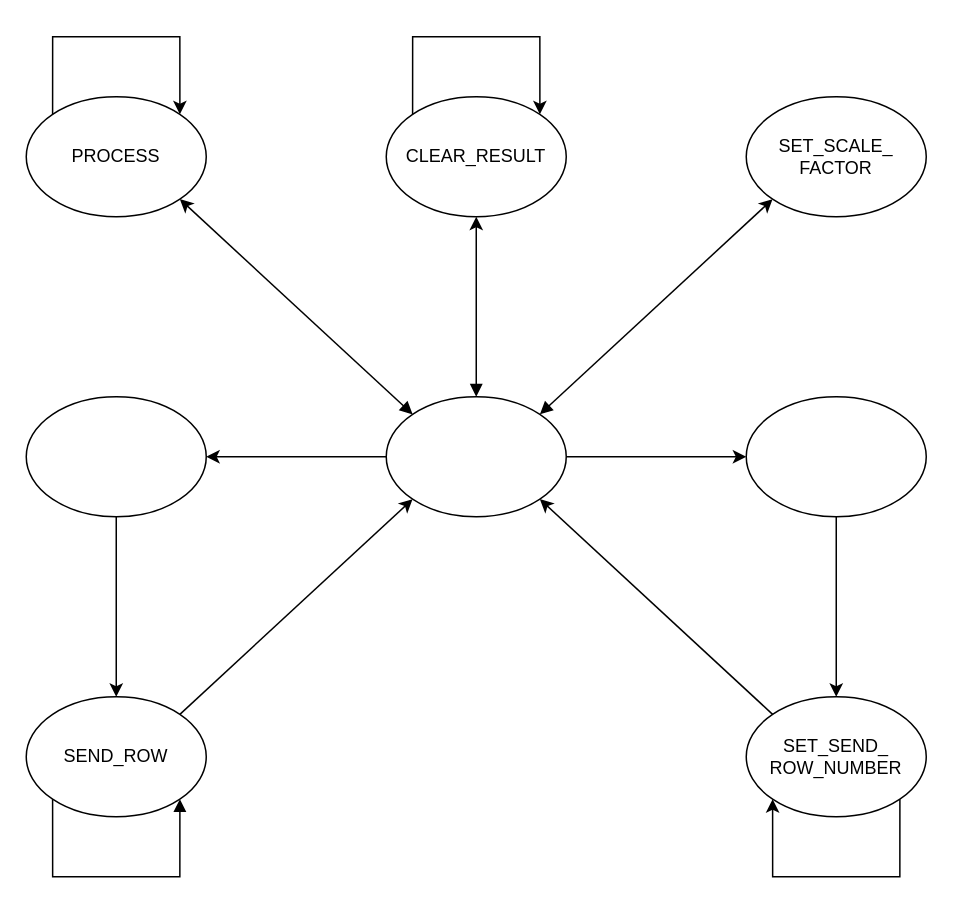
Image size: 953x915. Some labels were removed from this diagram. Here are the shapes that lost their labels. From the top down, the centre of each, then its label:
At point (115, 456): "SET_WRITE_ROW".
At point (475, 456): "IDLE".
At point (835, 456): "SET_WRITE_ ROW_NUMBER".
